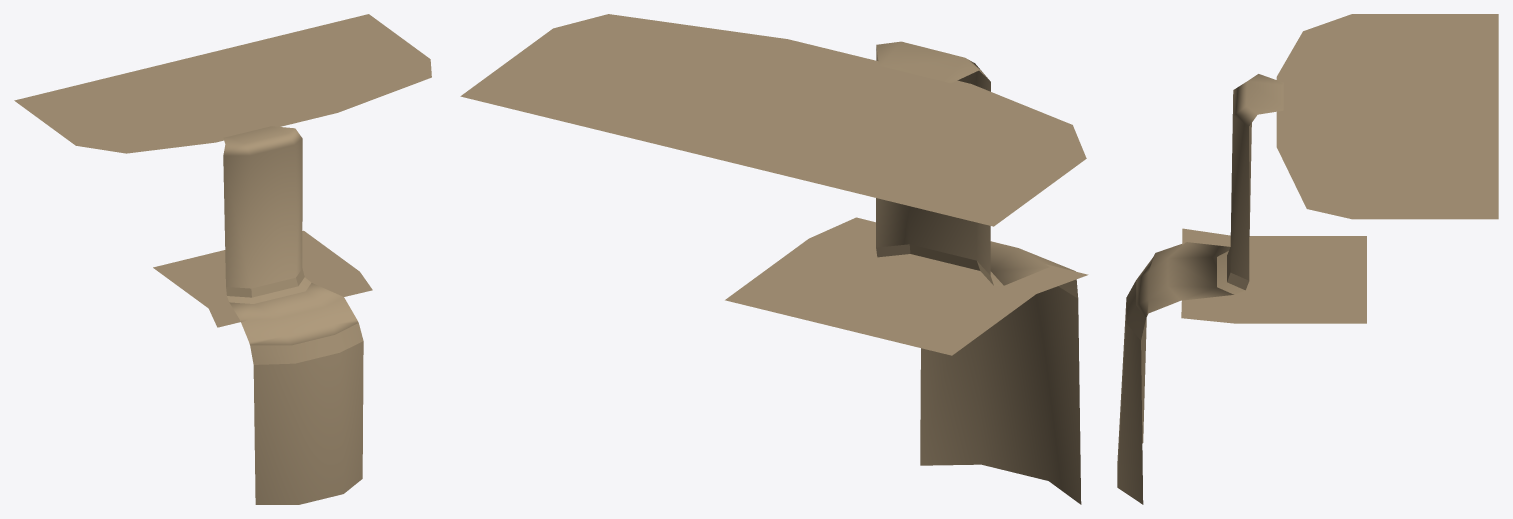
Rendered from Msh_CascadeShader_Env_Fire.fbx.
3 renders of one model, left to right at view 1: azimuth 30°, elevation 25°; view 2: azimuth 150°, elevation 25°; view 3: azimuth 270°, elevation 25°, orthographic. The views are drawn at different scales.
Visible parts, largest first — view 1: Msh_Cascade_Env; view 2: Msh_Cascade_Env; view 3: Msh_Cascade_Env.
Part boxes in pixels (x1,y1,x2,y2): Msh_Cascade_Env: (14, 14, 431, 504); Msh_Cascade_Env: (460, 14, 1088, 504); Msh_Cascade_Env: (1117, 14, 1498, 504).
Bounding box in the file's own units: 74.97 × 64.9 × 58.81.
